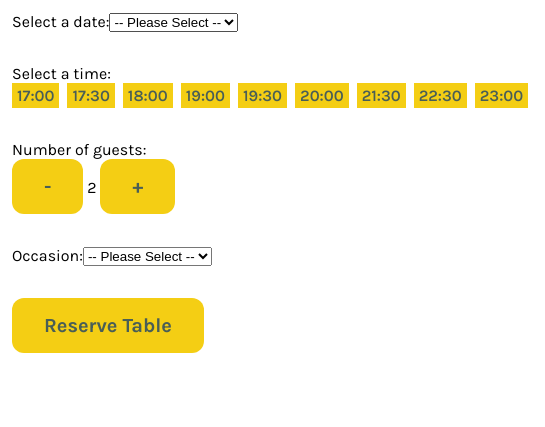
Test case: The time input is required
This screenshot has width=545, height=427.
Click the button "Reserve Table": click(108, 326) top-left (12, 298), bottom-right (204, 353)
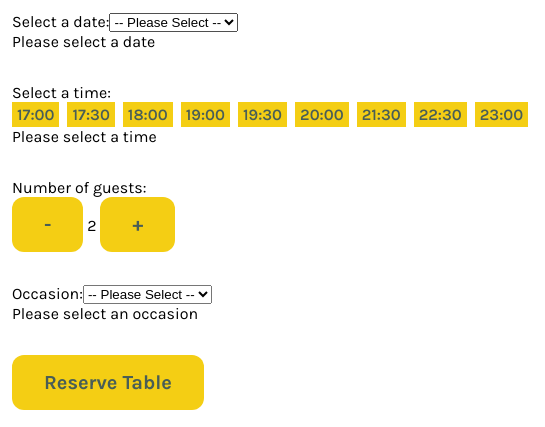
Result: the text "Please select a time" is shown at top-left (12, 127), bottom-right (157, 146)
